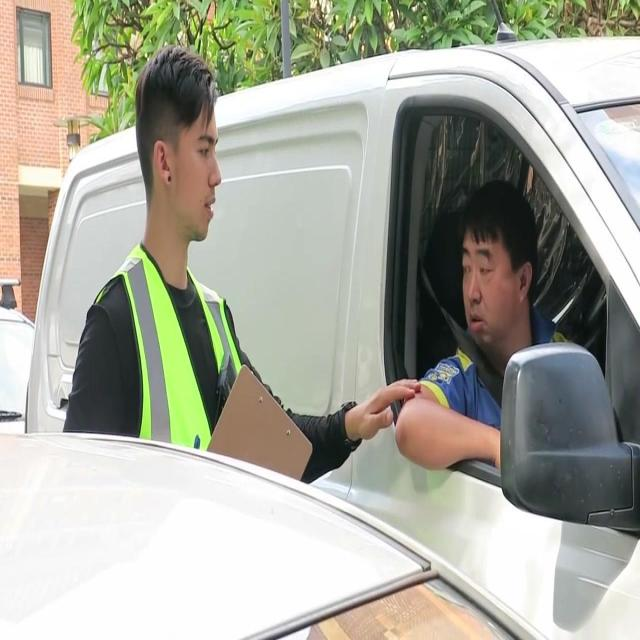Vest: (90, 245, 242, 452)
